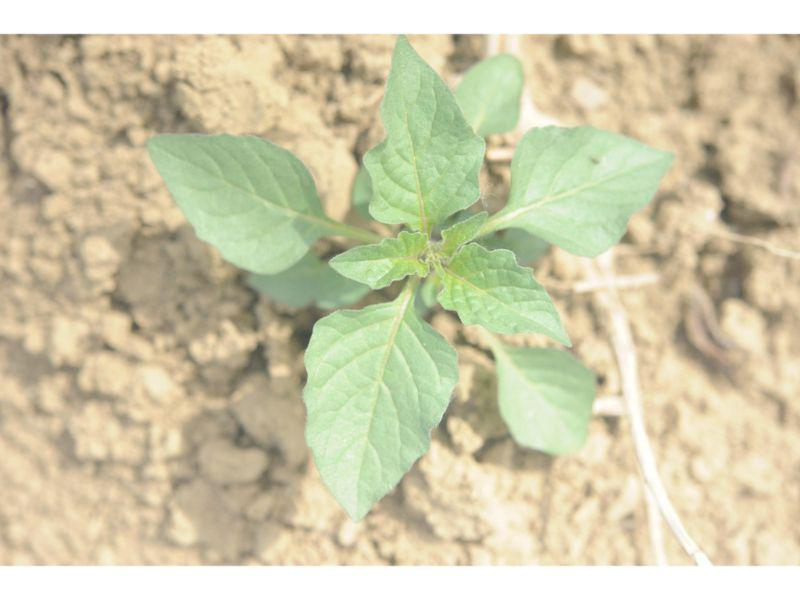nightshade: (149, 33, 675, 524)
